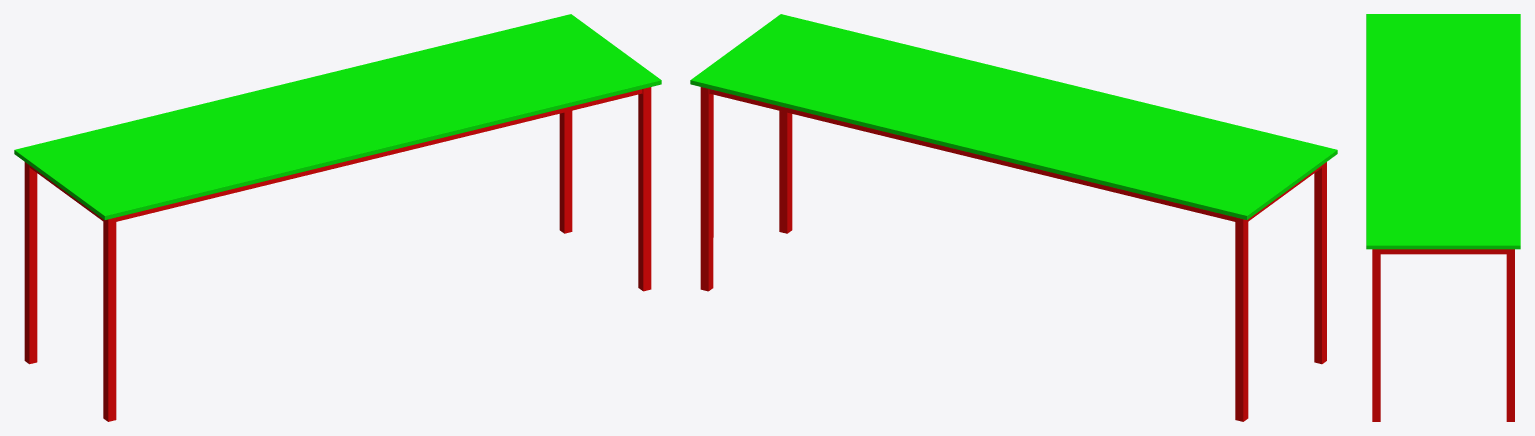
File: LongTable.fbx
3 renders of one model, left to right at view 1: azimuth 30°, elevation 25°; view 2: azimuth 150°, elevation 25°; view 3: azimuth 270°, elevation 25°, orthographic. The views are drawn at different scales.
Visible parts, largest first — view 1: TableTop, TableBase; view 2: TableTop, TableBase; view 3: TableTop, TableBase.
Part boxes in pixels (x1,y1,x2,y2): TableTop: [14, 14, 661, 219]; TableBase: [24, 87, 651, 421]; TableTop: [690, 14, 1337, 219]; TableBase: [700, 87, 1326, 421]; TableTop: [1366, 14, 1520, 249]; TableBase: [1372, 249, 1514, 421].
Size of the model in its own units: 103 by 366 by 132.
